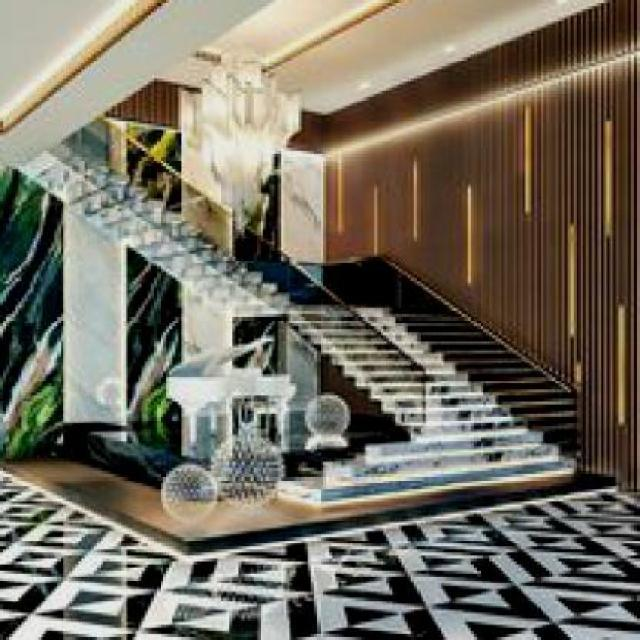stair: (272, 259, 566, 519)
